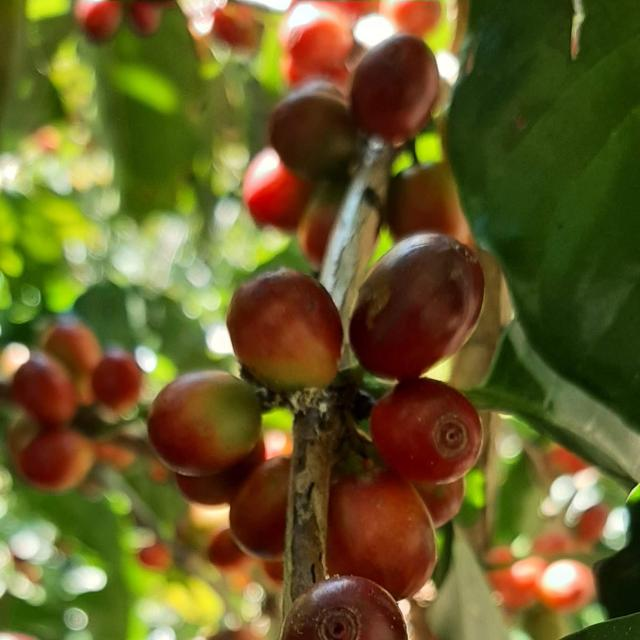red: (350, 231, 485, 380), (327, 472, 437, 601), (370, 378, 483, 485), (351, 33, 440, 147), (281, 577, 408, 640)
yellow: (226, 268, 343, 392), (147, 371, 261, 477), (269, 80, 358, 179), (388, 162, 473, 246), (229, 457, 291, 561)
